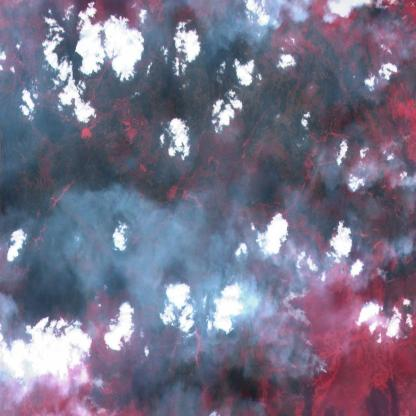fire: (0, 339, 128, 416), (280, 240, 334, 416), (380, 268, 416, 358), (351, 0, 416, 43)
